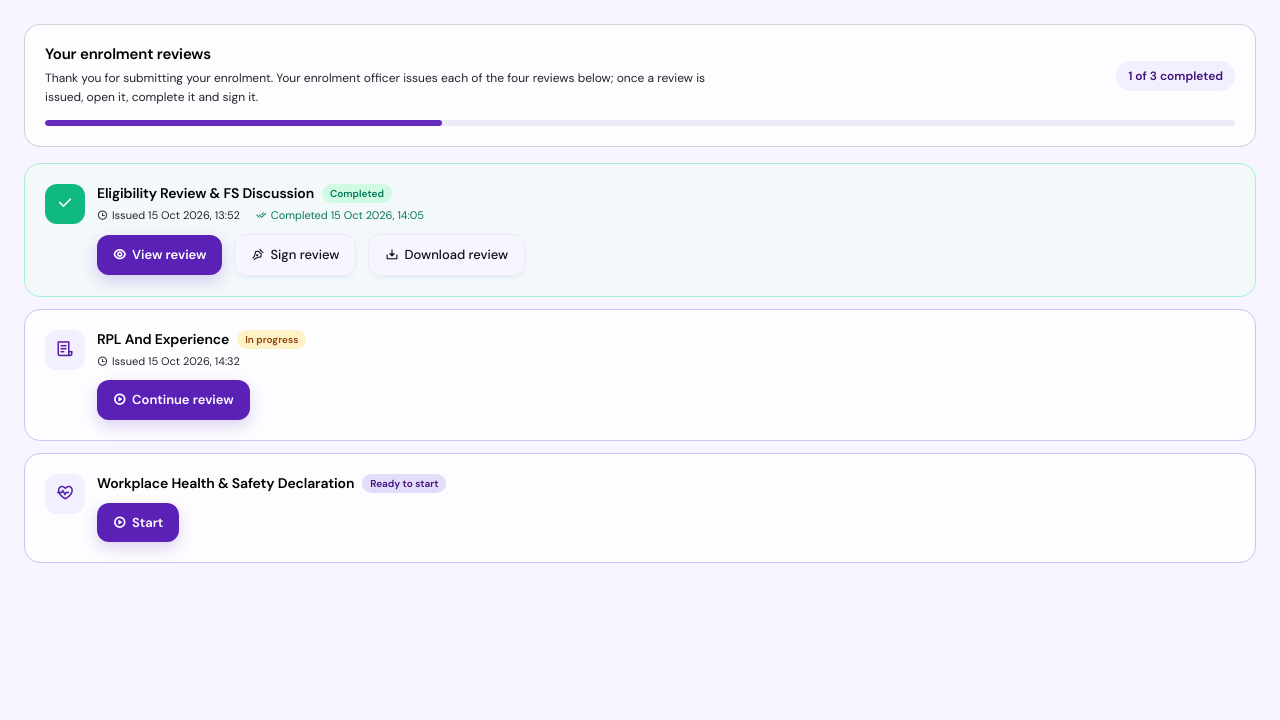
Test case: enrolment review download › says so when the download fails
The image size is (1280, 720).
expect the heading "Eligibility Review & FS Discussion" is shown: met, box [97,184,314,202]
Click the button "Download review" at [447, 255], box [368,234,525,276]
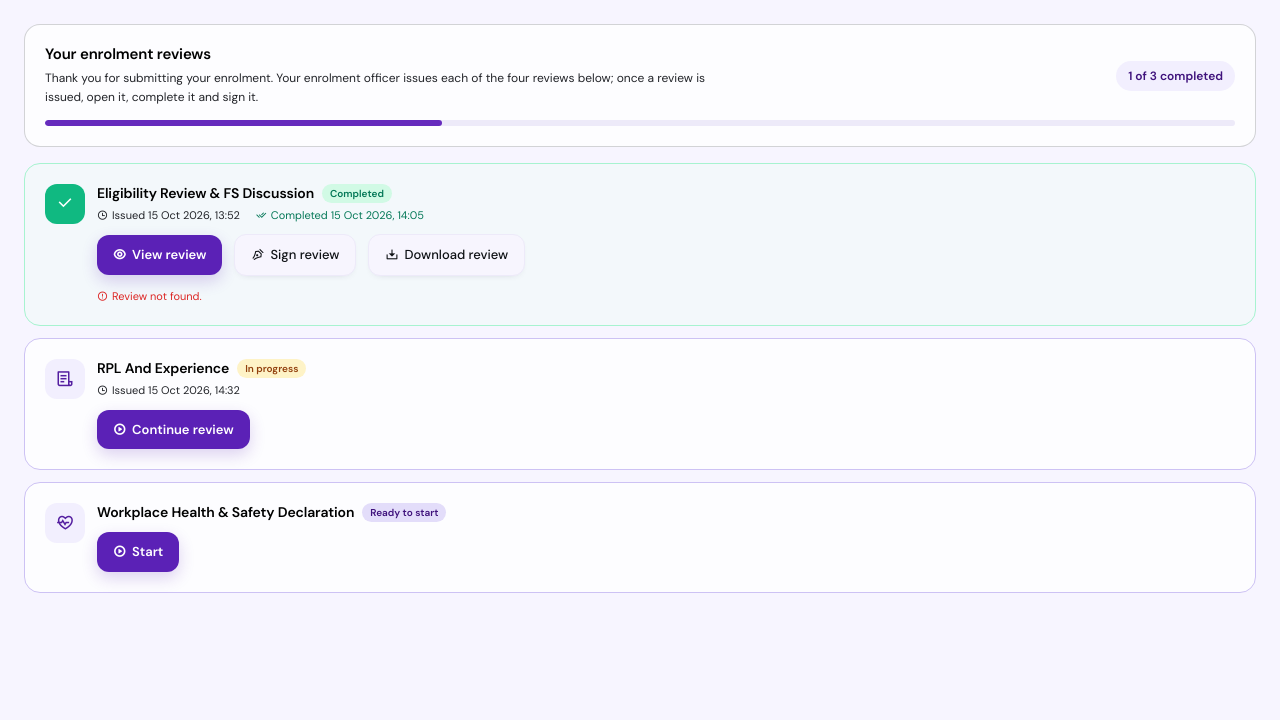
expect the message reads "Review not found.": met, box [112,288,202,302]
